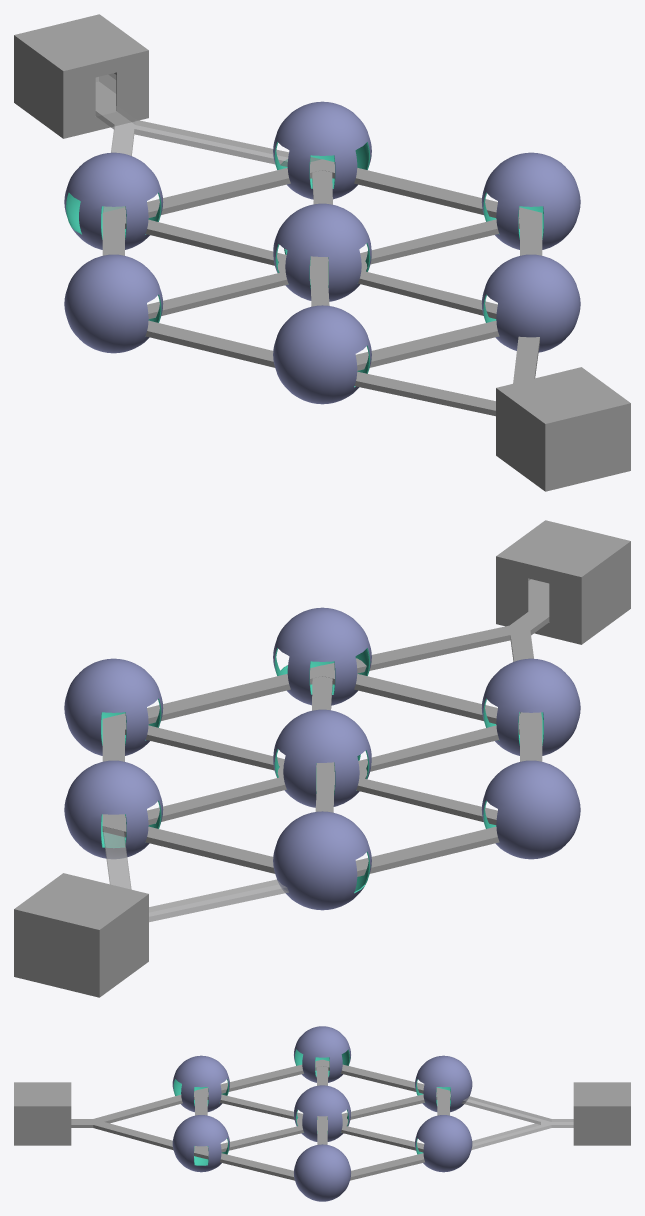
The picture shows the model from 3 angles, top to bottom: view 1: azimuth 30°, elevation 25°; view 2: azimuth 150°, elevation 25°; view 3: azimuth 270°, elevation 25°; orthographic projection. The views are drawn at different scales.
Visible parts, largest first — view 1: pCube3, pCube5, pTorus1, pCylinder1, pSphere17, pSphere13, pSphere16, pSphere9, pSphere12, pSphere15, pSphere14, pCube4 (+1 smaller); view 2: pCube5, pTorus1, pCube3, pCylinder1, pSphere15, pSphere13, pSphere14, pSphere9, pSphere12, pSphere17, pSphere16, pCube2 (+1 smaller); view 3: pTorus1, pCube5, pCube3, pCylinder1, pSphere12, pSphere14, pSphere16, pSphere13, pSphere15, pSphere17, pSphere9, pCube2 (+1 smaller).
Part boxes in pixels (left/top/right/bottom): pCube3: left=496, top=367, right=630, bottom=491; pCube5: left=14, top=14, right=148, bottom=138; pTorus1: left=102, top=159, right=542, bottom=370; pCylinder1: left=125, top=170, right=519, bottom=318; pSphere17: left=273, top=305, right=371, bottom=404; pSphere13: left=64, top=254, right=163, bottom=353; pSphere16: left=481, top=254, right=580, bottom=352; pSphere9: left=273, top=203, right=371, bottom=301; pSphere12: left=481, top=152, right=580, bottom=249; pSphere15: left=64, top=152, right=163, bottom=249; pSphere14: left=273, top=101, right=371, bottom=199; pCube4: left=95, top=73, right=320, bottom=212; pCube5: left=14, top=873, right=148, bottom=997; pTorus1: left=102, top=665, right=542, bottom=876; pCube3: left=496, top=520, right=630, bottom=644; pCylinder1: left=125, top=676, right=519, bottom=824; pSphere15: left=273, top=811, right=371, bottom=910; pSphere13: left=481, top=760, right=580, bottom=859; pSphere14: left=64, top=760, right=163, bottom=858; pSphere9: left=273, top=709, right=371, bottom=807; pSphere12: left=64, top=658, right=163, bottom=755; pSphere17: left=481, top=658, right=580, bottom=755; pSphere16: left=273, top=607, right=371, bottom=705; pCube2: left=323, top=579, right=549, bottom=718; pTorus1: left=195, top=1059, right=449, bottom=1180; pCube5: left=573, top=1082, right=630, bottom=1145; pCube3: left=14, top=1082, right=71, bottom=1145; pCylinder1: left=207, top=1066, right=437, bottom=1152; pSphere12: left=294, top=1144, right=350, bottom=1201; pSphere14: left=415, top=1115, right=472, bottom=1172; pSphere16: left=172, top=1115, right=229, bottom=1172; pSphere13: left=294, top=1026, right=350, bottom=1082; pSphere15: left=415, top=1055, right=472, bottom=1112; pSphere17: left=172, top=1055, right=229, bottom=1112; pSphere9: left=294, top=1085, right=350, bottom=1141; pCube2: left=71, top=1091, right=194, bottom=1155.
Bounding box in the file's own units: 48.2 × 8.2 × 88.2.
